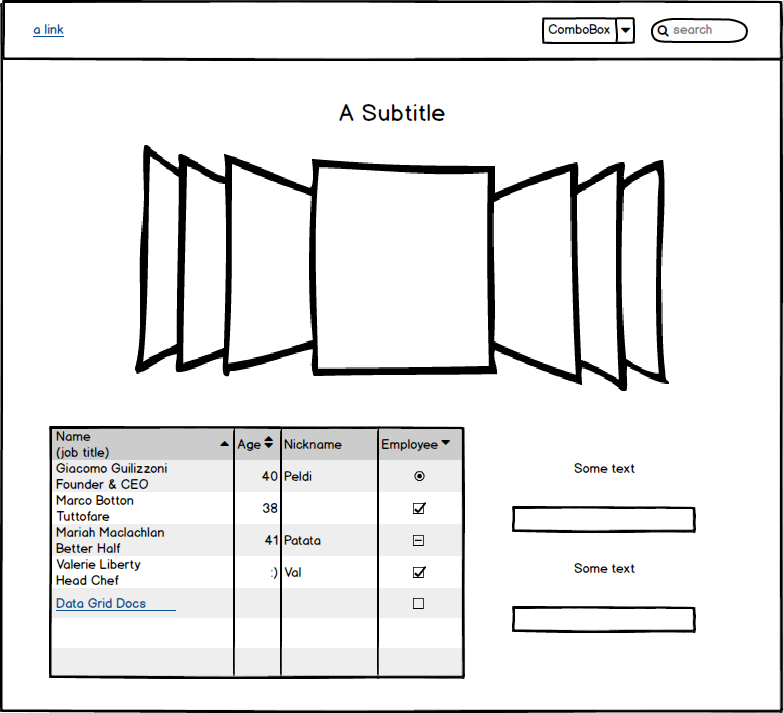h1: (328, 93, 452, 131)
input: (504, 599, 706, 635), (508, 503, 702, 537)
label: (566, 557, 639, 582), (566, 457, 646, 479)
navlink: (26, 14, 76, 45)
search: (646, 11, 753, 48)
select_box: (539, 12, 640, 48)
slideshow: (128, 137, 674, 399)
table: (42, 421, 472, 683)
